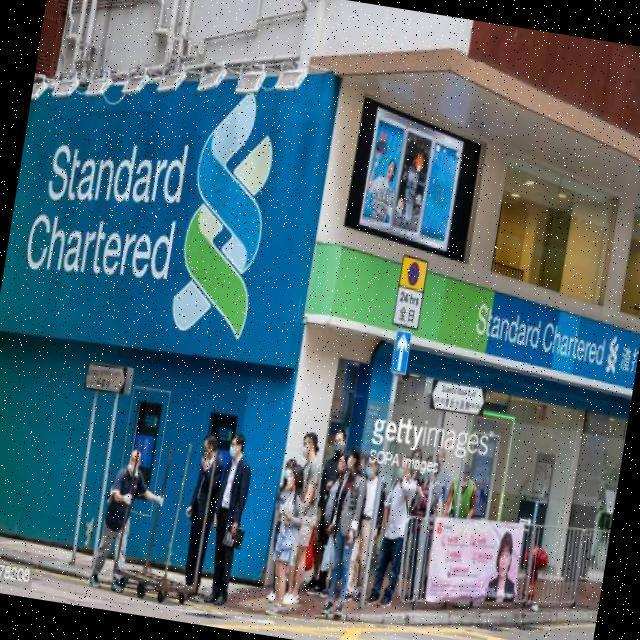Standard Chartered: (17, 61, 284, 345), (472, 302, 624, 377)
